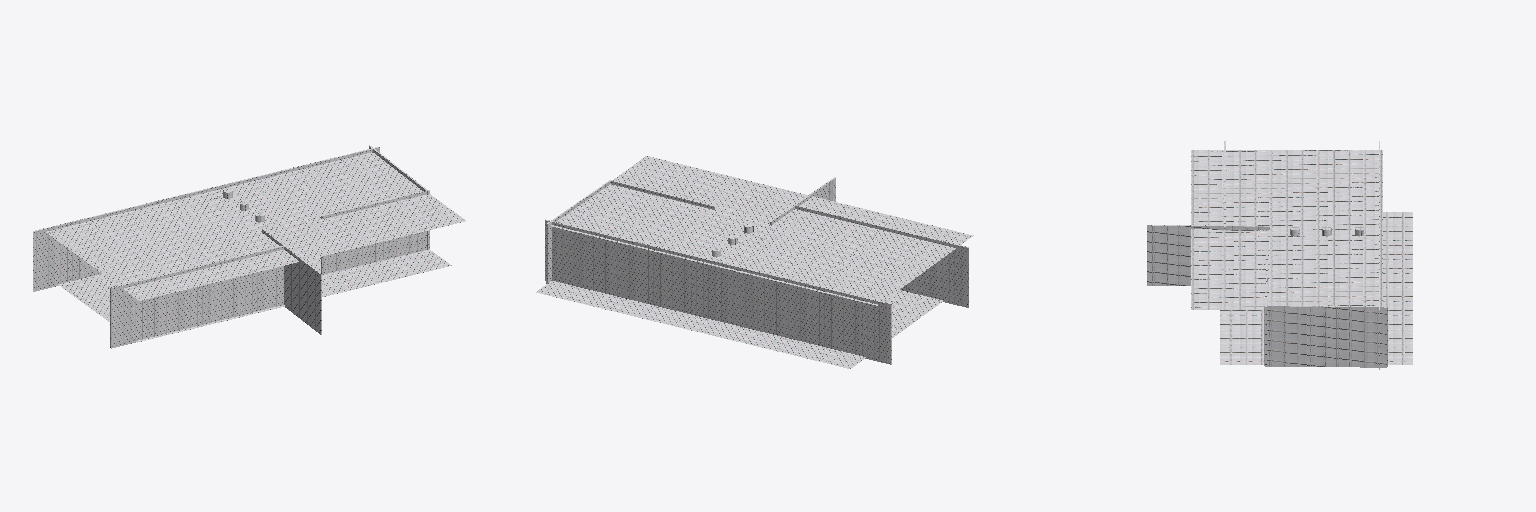
The picture shows the model from 3 angles: view 1: azimuth 30°, elevation 25°; view 2: azimuth 150°, elevation 25°; view 3: azimuth 270°, elevation 25°; orthographic projection.
Visible parts, largest first — view 1: Plane.003, Plane.001, Cube.013_Cube.016, Cube.012_Cube.015, Plane, Cube.003_Cube.006, Cube.011_Cube.014, Plane.002, Cube.001_Cube.002; view 2: Plane.003, Plane.001, Cube.012_Cube.015, Cube.001_Cube.002, Plane.002, Cube.013_Cube.016, Plane, Cube.002_Cube.003, Cube.011_Cube.014; view 3: Plane.003, Plane.001, Cube.002_Cube.003, Plane, Cube.011_Cube.014, Plane.002.
Part boxes in pixels (x1,y1,x2,y2): Plane.003: (46,191,305,300); Plane.001: (207,152,465,259); Cube.013_Cube.016: (110,245,285,348); Cube.012_Cube.015: (33,188,207,291); Plane: (284,249,451,305); Cube.003_Cube.006: (321,190,429,274); Cube.011_Cube.014: (262,229,321,334); Plane.002: (58,274,284,342); Cube.001_Cube.002: (204,147,379,192); Plane.003: (711,196,973,305); Plane.001: (551,156,810,264); Cube.012_Cube.015: (716,262,891,364); Cube.001_Cube.002: (545,219,720,320); Plane.002: (703,290,942,368); Cube.013_Cube.016: (793,205,968,307); Plane: (536,281,717,332); Cube.002_Cube.003: (546,180,610,283); Cube.011_Cube.014: (770,177,835,224); Plane.003: (1191,150,1382,231); Plane.001: (1191,229,1382,309); Cube.002_Cube.003: (1264,306,1387,367); Plane: (1220,293,1412,364); Cube.011_Cube.014: (1147,225,1269,285); Plane.002: (1383,212,1412,292).
Size of the model in its own units: 28.94 by 5.32 by 19.22.
Materials: 19 (1 with a texture image).